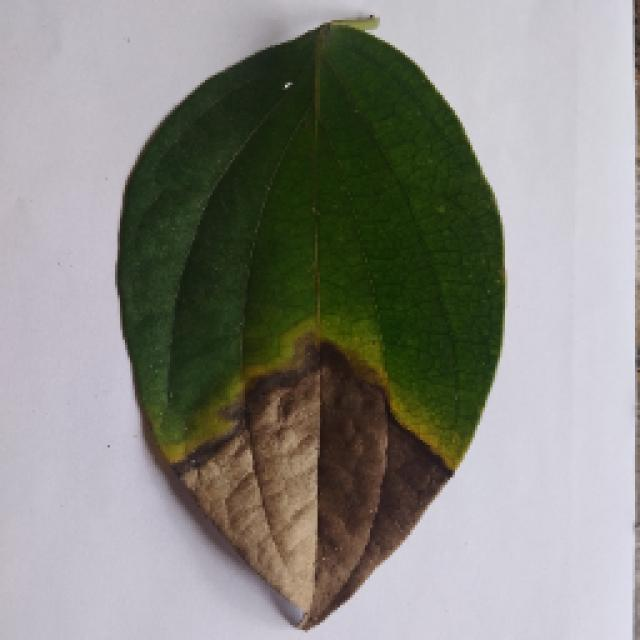footrot: (113, 25, 505, 627)
